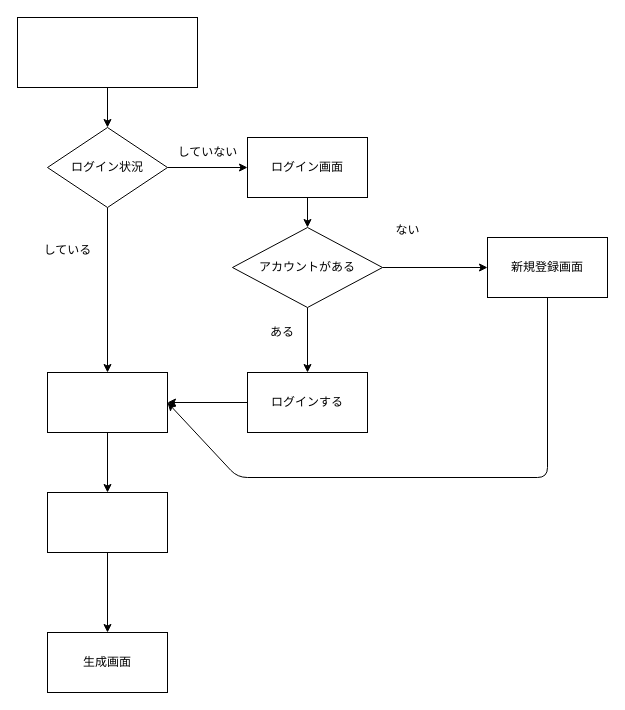
Image size: 625x710. Some labels were removed from this diagram. The centre of each missing label's shape, as x and y in pixels:
mypage画面: (x=107, y=402)
おつまみ生成画面: (x=107, y=522)
ホームページ画面: (x=107, y=52)
